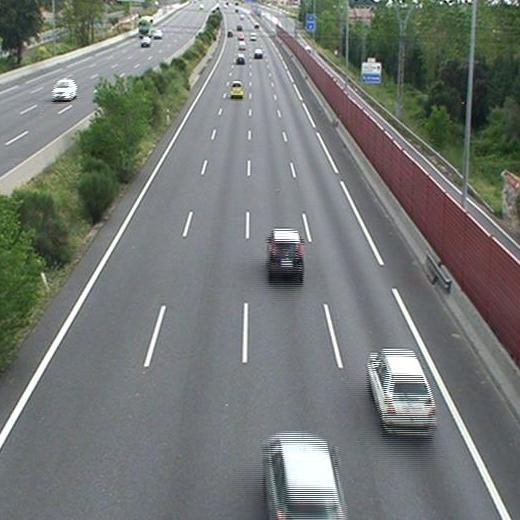car: (265, 437, 342, 520), (368, 350, 437, 432), (267, 230, 305, 275), (231, 82, 244, 97), (253, 48, 264, 59), (237, 40, 247, 50), (235, 56, 245, 63)
